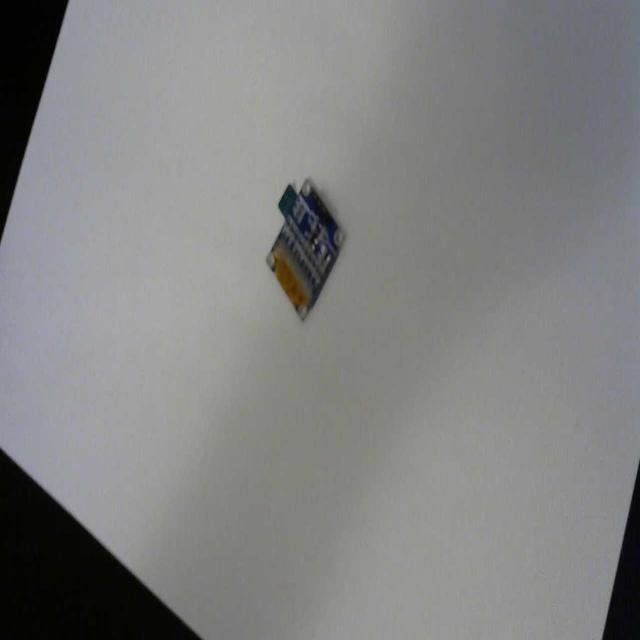oled: (263, 172, 353, 330)
